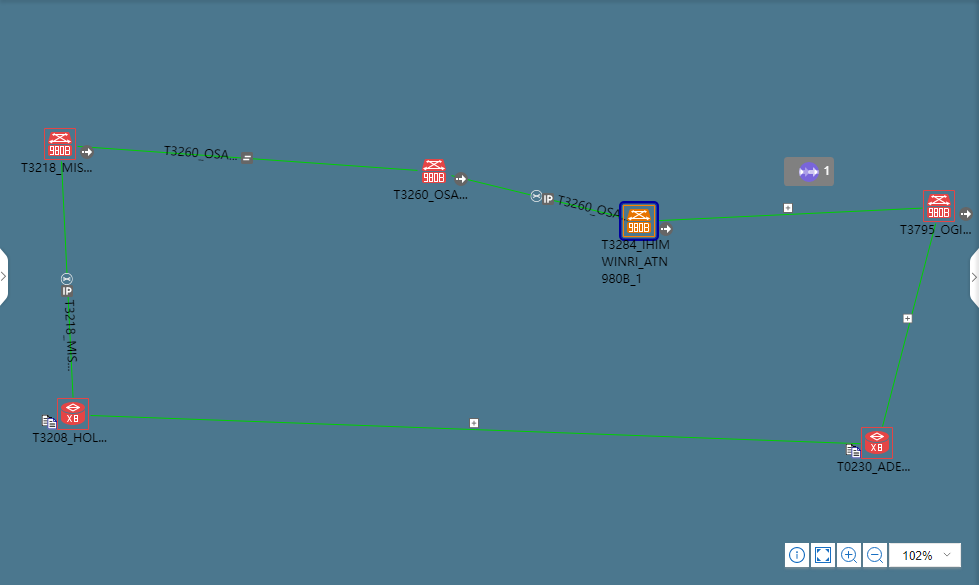ATN_Orange: (627, 210, 656, 239)
ATN_Red: (921, 192, 956, 221), (46, 130, 73, 159), (419, 161, 448, 182)
Link_Green: (113, 412, 846, 447), (260, 418, 864, 444), (878, 222, 936, 429), (76, 143, 416, 178), (450, 173, 620, 221), (658, 204, 921, 227), (58, 161, 73, 395)
Router_Red: (860, 430, 895, 459), (58, 400, 86, 427)
